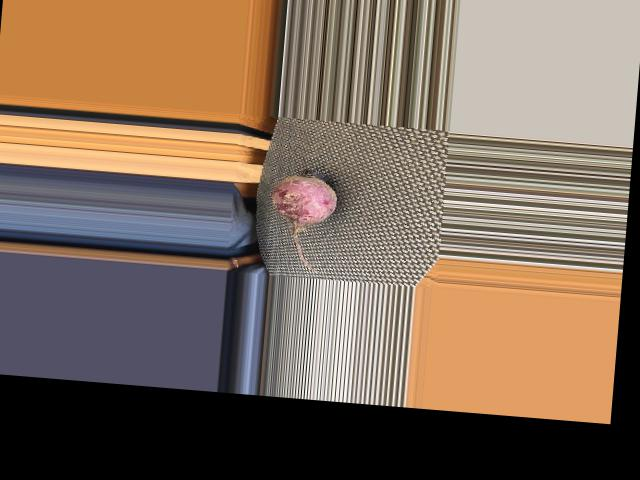beet: (265, 165, 338, 271)
